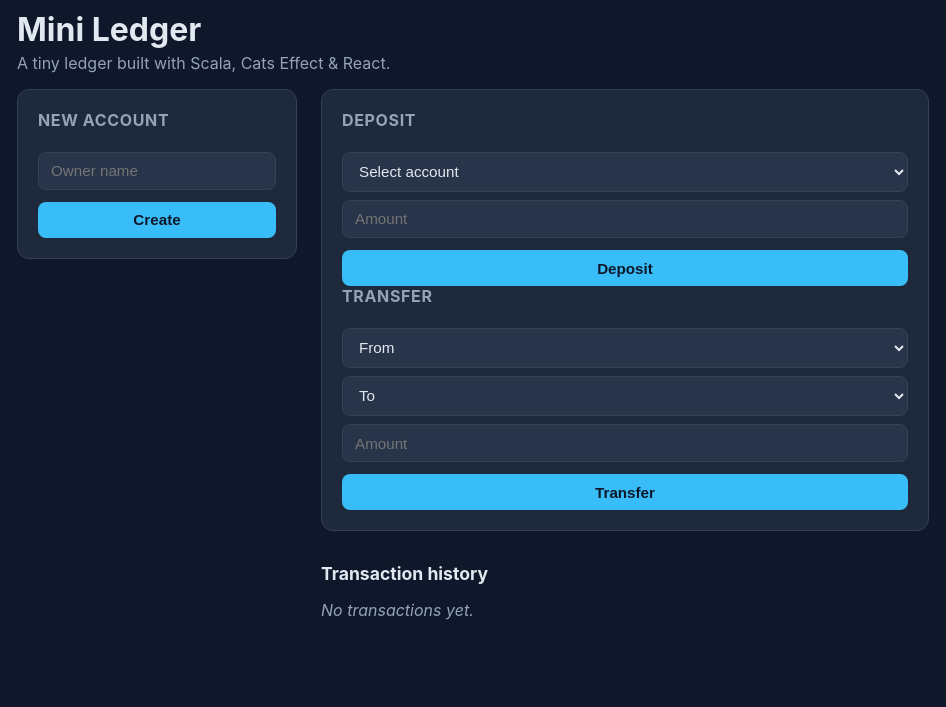
Test: App › shows the API error message and clears it after the next success
Type "Alice" into the field with placeholder "Owner name". click: [157, 171]
box: [38,152,276,190]
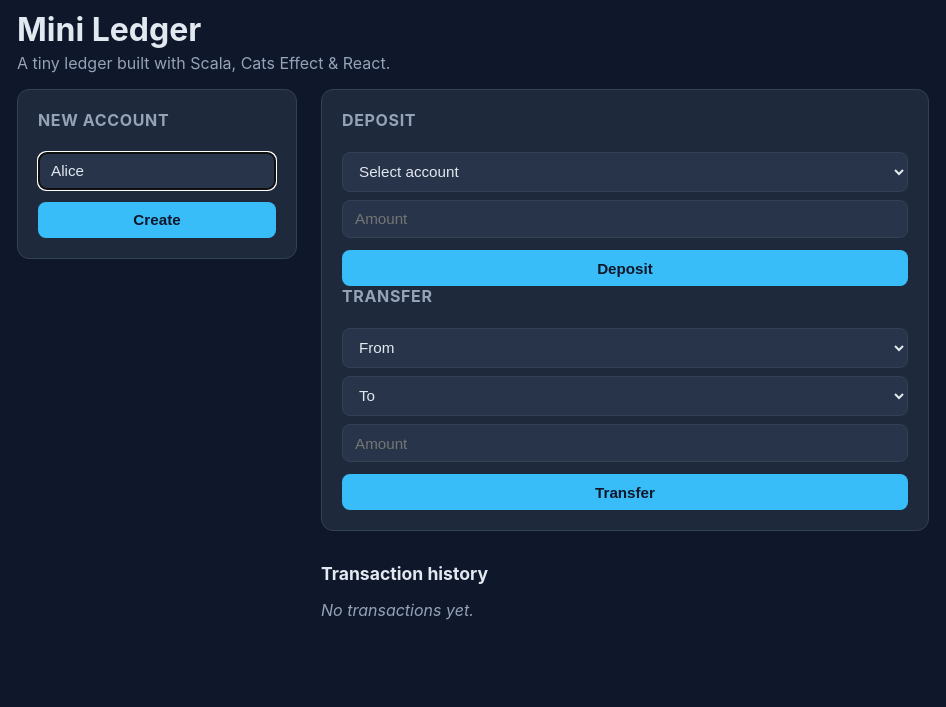
Click the button "Create". click: [157, 220]
box: [38,202,276,238]
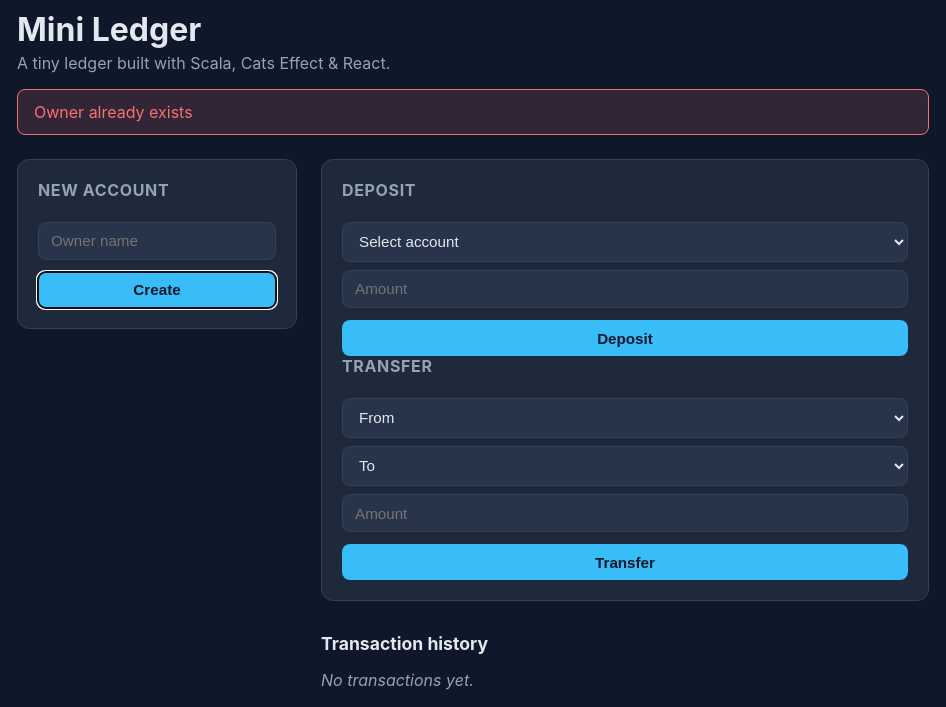
Expected: the text "Owner already exists" is shown, [17,89,929,135]
Type "Bob" into the field with placeholder "Owner name". click: [157, 241]
box: [38,222,276,260]
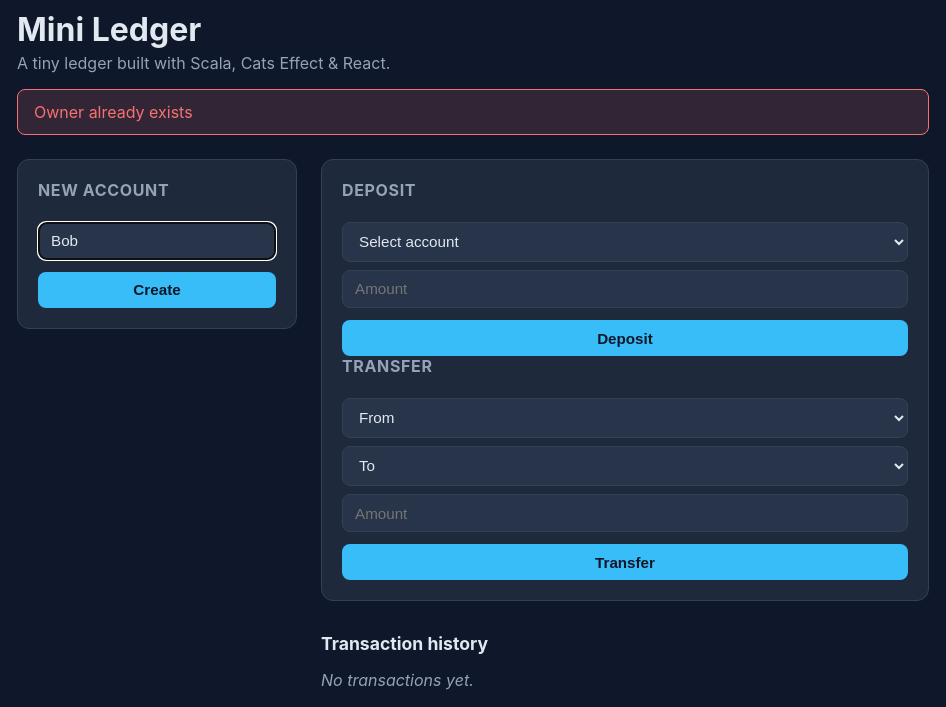
Click the button "Create". click: [157, 290]
box: [38,272,276,308]
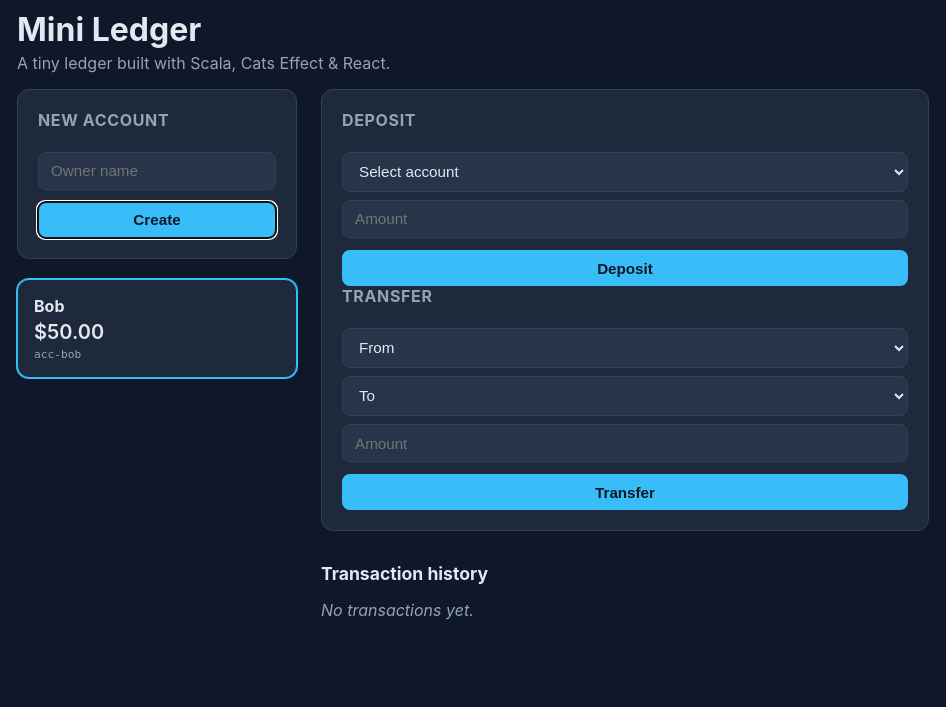
Expected: the text "Owner already exists" is gone
